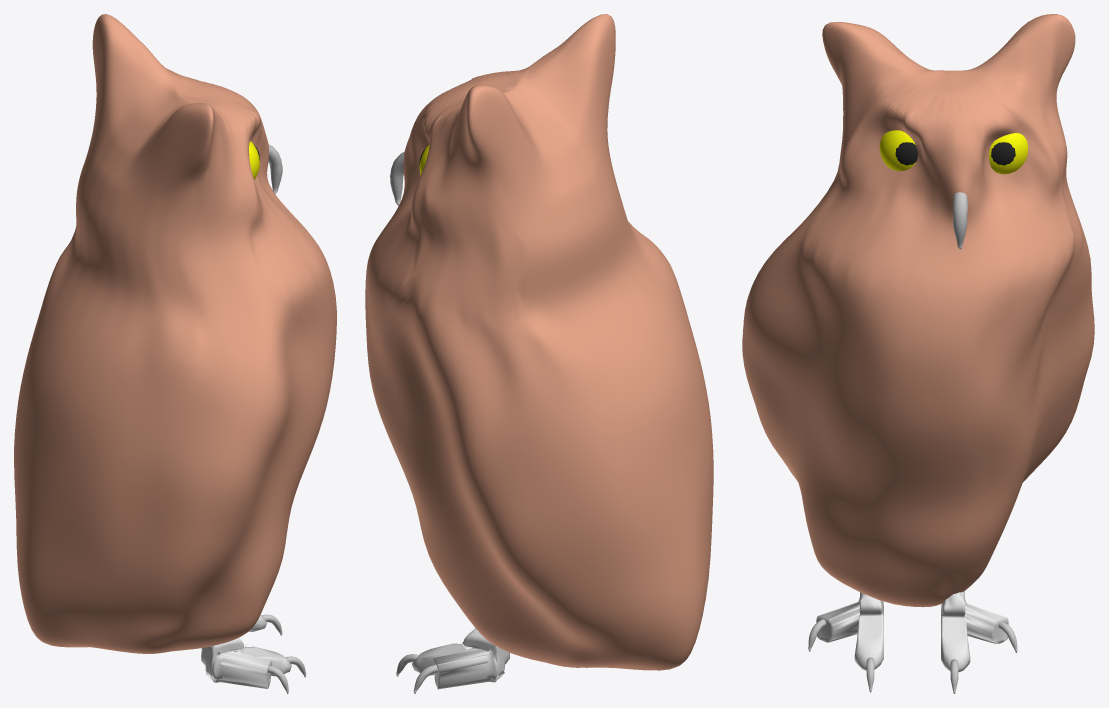
Rendered from owl 2.fbx.
The picture shows the model from 3 angles, left to right: view 1: azimuth 30°, elevation 25°; view 2: azimuth 150°, elevation 25°; view 3: azimuth 270°, elevation 25°; orthographic projection. The views are drawn at different scales.
Parts seen in each view (by area): view 1: owl, foot.001; view 2: owl, foot, beak; view 3: owl, foot, foot.001, eye, pupil, beak.
Boxes of the visible parts, x1,y1,x2,y2 form: owl: (14, 14, 336, 653); foot.001: (201, 638, 291, 688); owl: (365, 14, 713, 670); foot: (412, 628, 509, 689); beak: (390, 152, 404, 205); owl: (742, 14, 1094, 607); foot: (941, 591, 1008, 672); foot.001: (816, 592, 883, 670); eye: (879, 130, 1028, 174); pupil: (895, 142, 1015, 165); beak: (952, 192, 967, 249).
Bounding box in the file's own units: 201 × 405 × 207.
